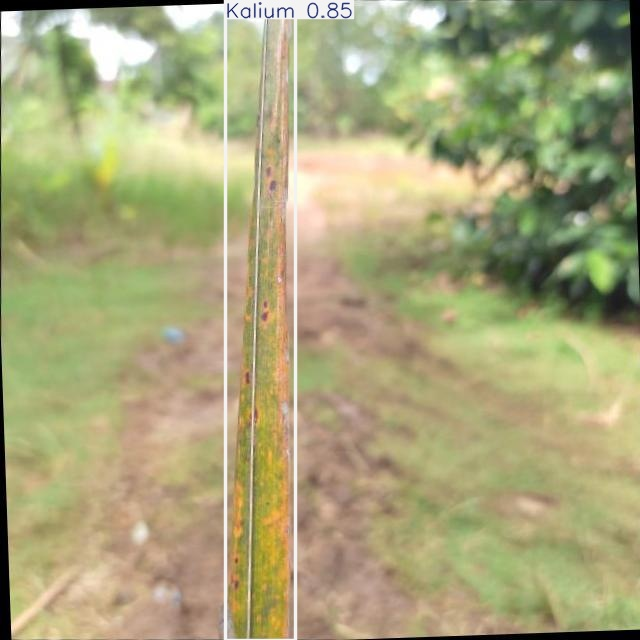Kalium: (226, 0, 295, 640)
